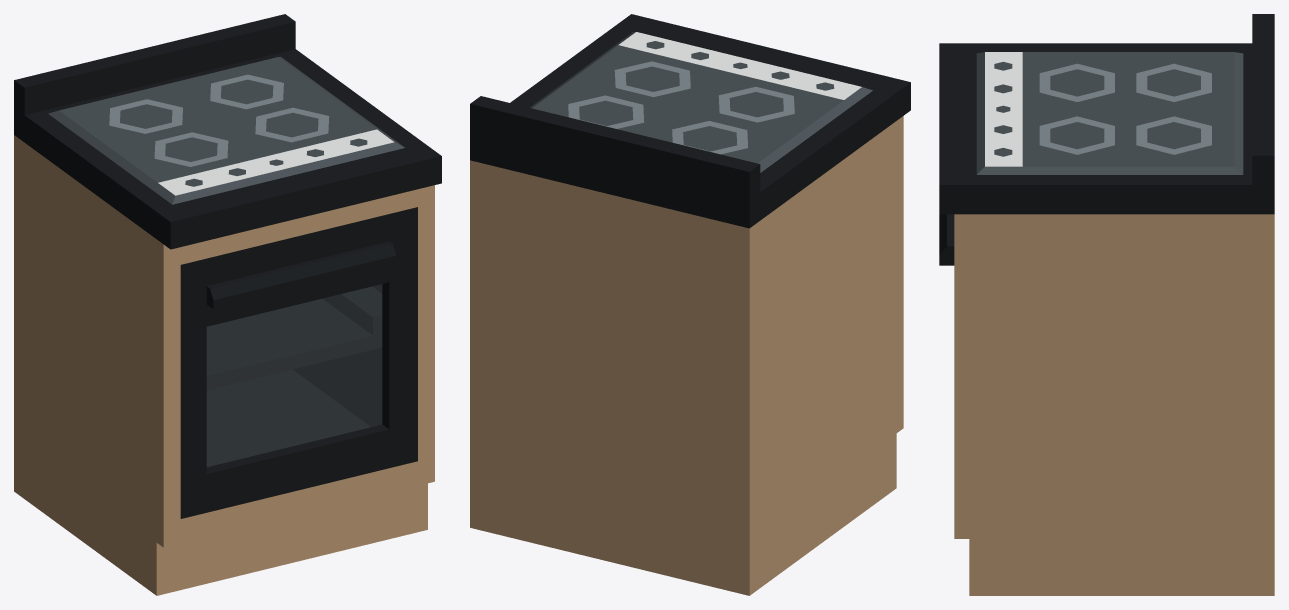
File: range-electric.glb
The picture shows the model from 3 angles, left to right: view 1: azimuth 30°, elevation 25°; view 2: azimuth 150°, elevation 25°; view 3: azimuth 270°, elevation 25°; orthographic projection. The views are drawn at different scales.
Parts seen in each view (by area): view 1: range-electric; view 2: range-electric; view 3: range-electric.
Boxes of the visible parts, left/top/right/bottom form: range-electric: left=14, top=14, right=441, bottom=595; range-electric: left=470, top=14, right=910, bottom=595; range-electric: left=939, top=14, right=1274, bottom=595.
Size of the model in its own units: 0.6 by 0.87 by 0.6.
